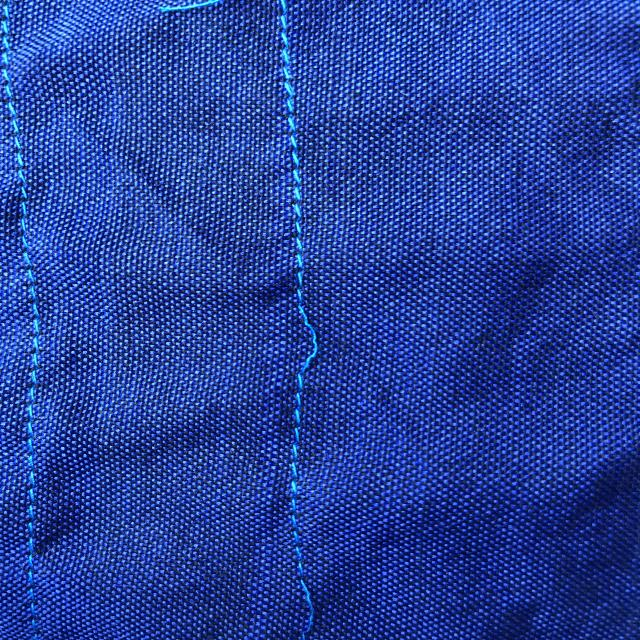skip: (254, 549, 342, 638), (280, 272, 338, 391)
